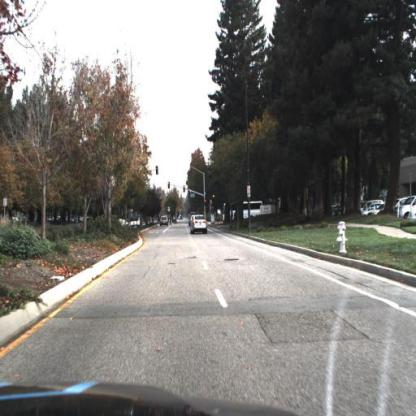car: (379, 193, 405, 216), (359, 197, 384, 219), (398, 195, 416, 218), (192, 215, 208, 234), (161, 216, 169, 229)
pedestrian: (230, 209, 235, 225)
trafficLight-Red: (213, 194, 216, 204), (183, 186, 186, 194)
trafficLight-RedLeft: (168, 181, 171, 191)
truck: (224, 204, 263, 222)
